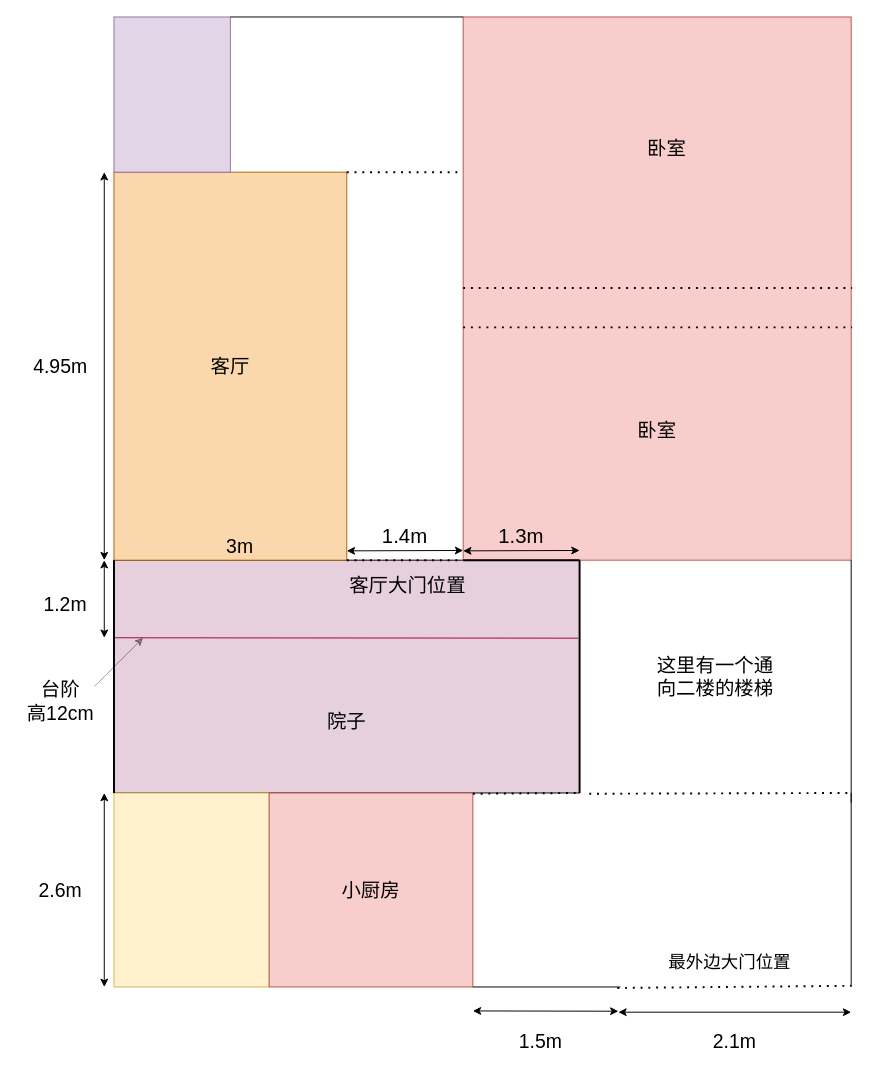
The diagram is 877 pixels wide and 1072 high, and some of its shapes have lost their labels. The centre of each missing label's shape, as x and y in pixels:
"卫生间" belongs at point (171, 94).
"小卫生间" belongs at point (191, 889).
